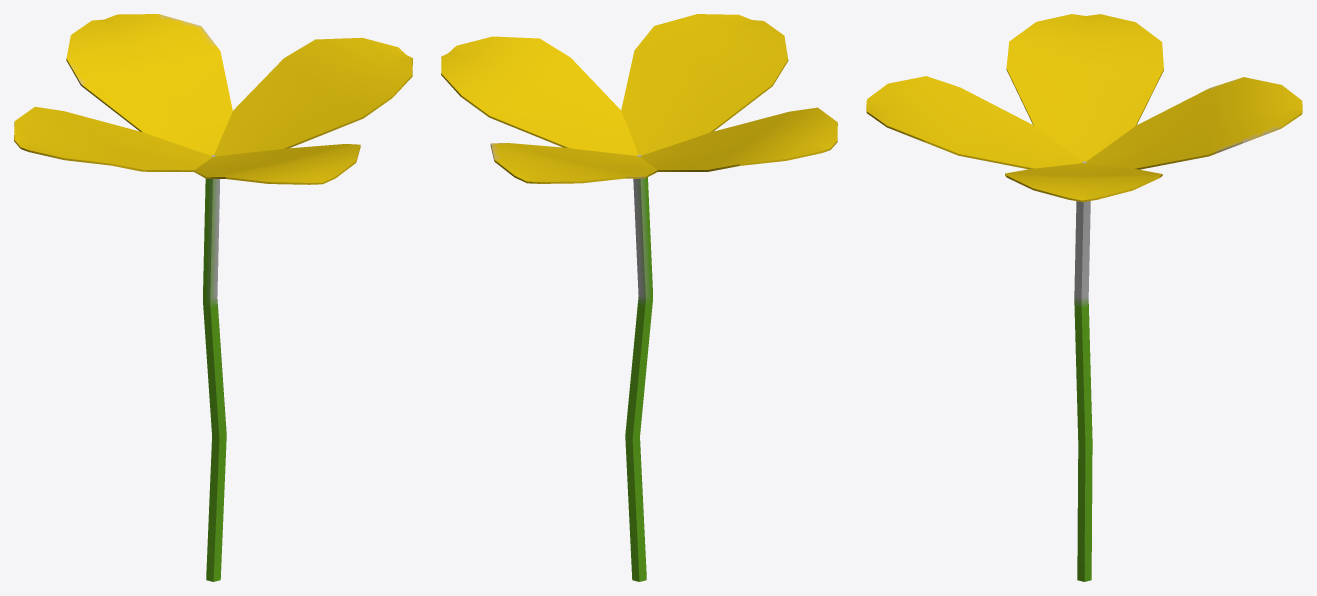
File: Flower 2.fbx
3 views of the same model, side by side, from view 1: azimuth 30°, elevation 25°; view 2: azimuth 150°, elevation 25°; view 3: azimuth 270°, elevation 25° (orthographic).
Visible parts, largest first — view 1: Flower_2; view 2: Flower_2; view 3: Flower_2.
Part boxes in pixels (box(x1,y1,x2,y2)): Flower_2: box(14, 14, 412, 581); Flower_2: box(441, 14, 837, 581); Flower_2: box(866, 14, 1302, 581).
Size of the model in its own units: 44.98 by 53.78 by 44.98.
1 material, 1 textured.
